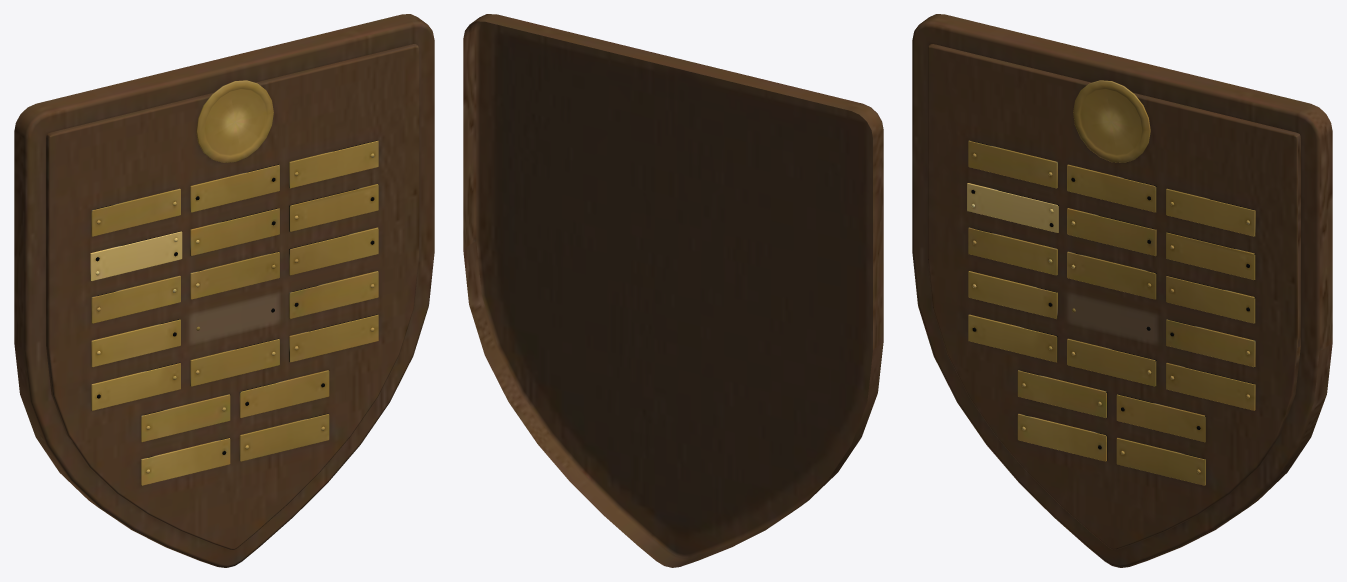
Rendered from trophy-shield.glb.
3 views of the same model, side by side, from view 1: azimuth 30°, elevation 25°; view 2: azimuth 150°, elevation 25°; view 3: azimuth 330°, elevation 25° (orthographic).
Parts seen in each view (by area): view 1: shield; view 2: shield; view 3: shield.
Boxes of the visible parts, x1=… form: shield: x1=14, y1=14, x2=434, y2=567; shield: x1=463, y1=14, x2=883, y2=567; shield: x1=912, y1=14, x2=1332, y2=567.
Bounding box in the file's own units: 0.34 × 0.3968 × 0.0246.
Materials: 1 (1 with a texture image).
